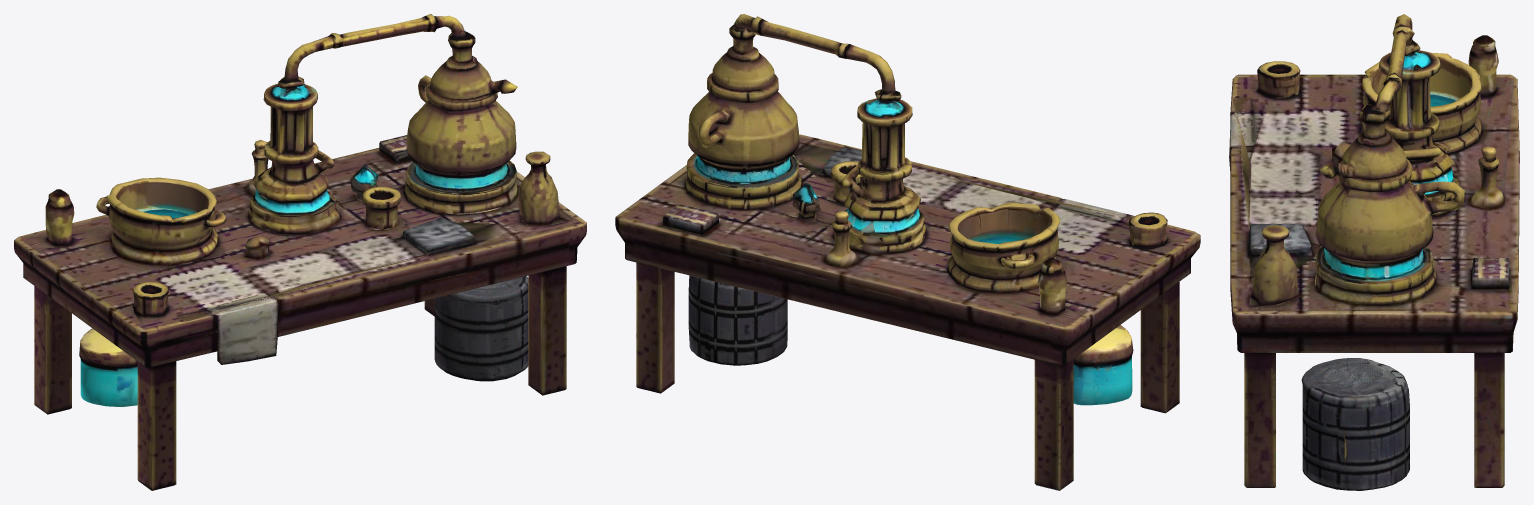
File: alchemy_workbend.glb
3 views of the same model, side by side, from view 1: azimuth 30°, elevation 25°; view 2: azimuth 150°, elevation 25°; view 3: azimuth 270°, elevation 25° (orthographic). The views are drawn at different scales.
Size of the model in its own units: 1.91 by 1.39 by 0.9746.
1 material, 1 textured.
